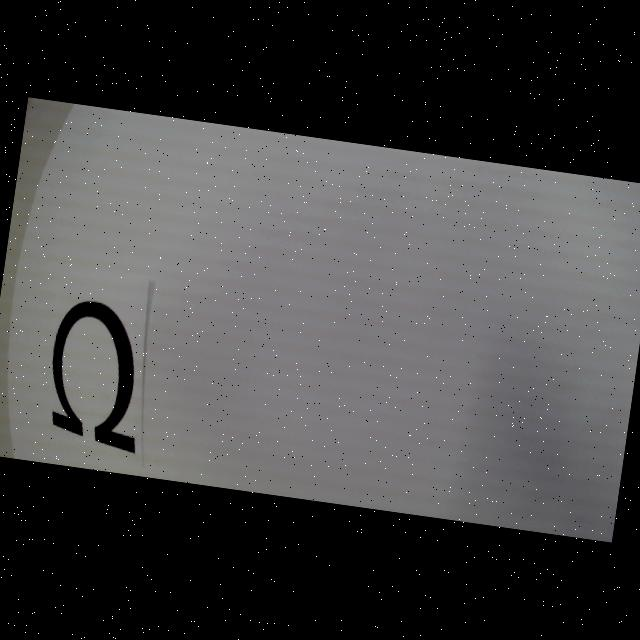OMEGA: (40, 296, 156, 454)
